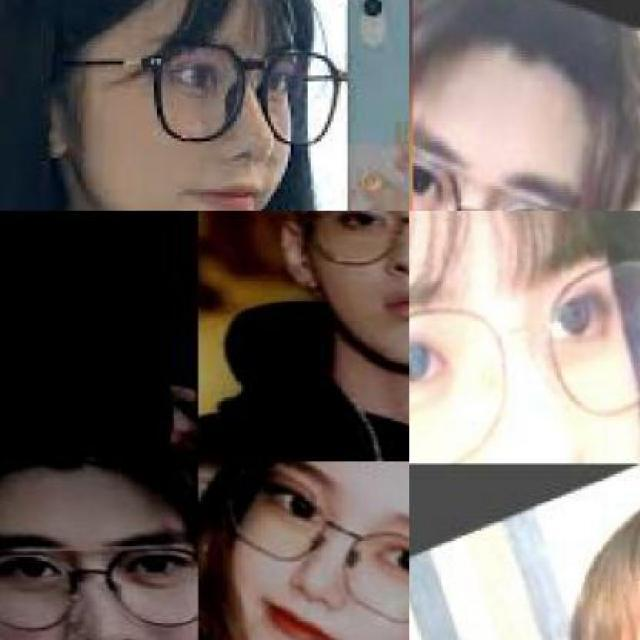mask: (410, 254, 640, 458), (215, 463, 408, 626), (120, 38, 368, 140), (0, 550, 198, 632), (284, 210, 408, 282)
